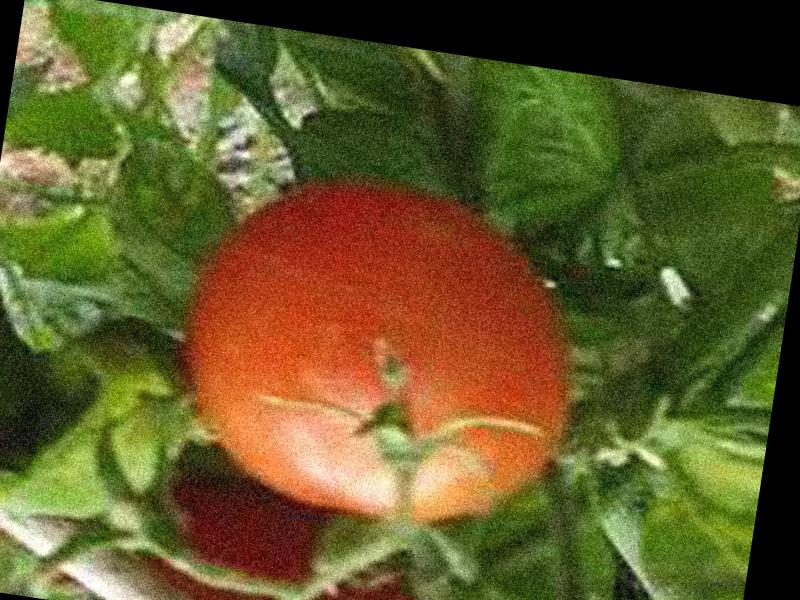Tomato: (169, 169, 591, 544)
